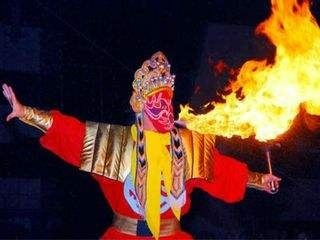fire: (177, 0, 320, 144)
